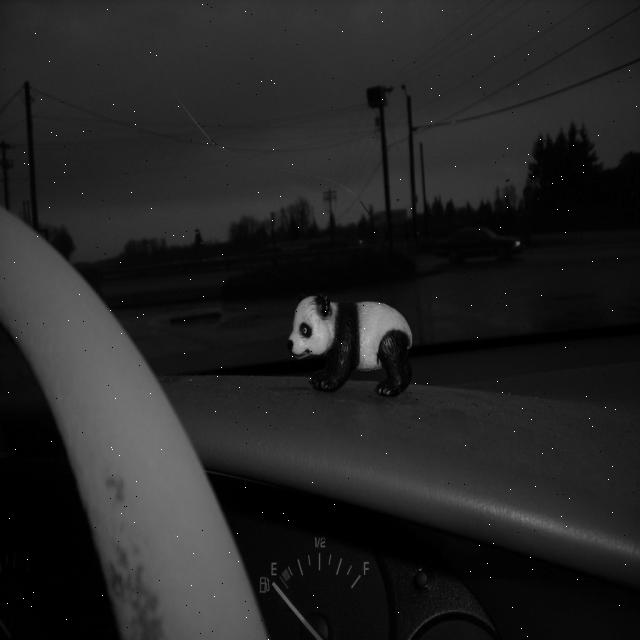panda: (289, 288, 416, 401)
